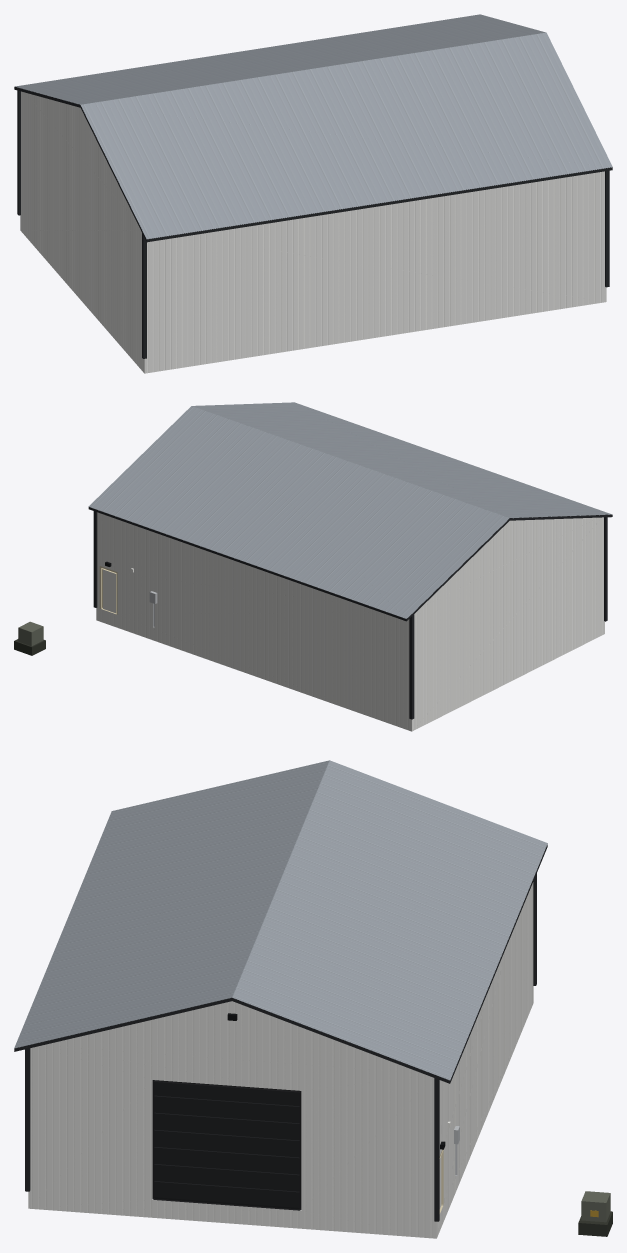
File: pole_barn.glb
3 views of the same model, one above another, from view 1: azimuth 30°, elevation 25°; view 2: azimuth 150°, elevation 25°; view 3: azimuth 270°, elevation 25° (orthographic). The views are drawn at different scales.
Visible parts, largest first — view 1: pole_barn_roof, pole_barn_walls, pole_barn_fascia, barn_corner_trim; view 2: pole_barn_walls, pole_barn_roof, pole_barn_fascia, barn_corner_trim, barn_man_door_slab, outb_transformer; view 3: pole_barn_roof, pole_barn_walls, barn_overhead_door_slab, pole_barn_fascia, barn_corner_trim, barn_overhead_door_frame, barn_overhead_door_groove, outb_transformer.
Boxes of the visible parts, box(x1,y1,x2,y2) form: pole_barn_roof: box(15, 14, 612, 239); pole_barn_walls: box(20, 91, 606, 373); pole_barn_fascia: box(14, 87, 612, 242); barn_corner_trim: box(17, 88, 609, 358); pole_barn_walls: box(96, 512, 604, 731); pole_barn_roof: box(88, 402, 611, 618); pole_barn_fascia: box(88, 507, 612, 621); barn_corner_trim: box(93, 511, 607, 719); barn_man_door_slab: box(103, 569, 115, 613); outb_transformer: box(18, 621, 43, 646); pole_barn_roof: box(14, 760, 547, 1080); pole_barn_walls: box(28, 882, 533, 1238); barn_overhead_door_slab: box(154, 1082, 299, 1207); pole_barn_fascia: box(14, 844, 547, 1083); barn_corner_trim: box(25, 873, 536, 1221); barn_overhead_door_frame: box(152, 1080, 301, 1210); barn_overhead_door_groove: box(154, 1095, 299, 1192); outb_transformer: box(581, 1191, 610, 1222).
Size of the model in its own units: 21.52 by 8.1 by 19.38.
15 materials, 3 textured.
